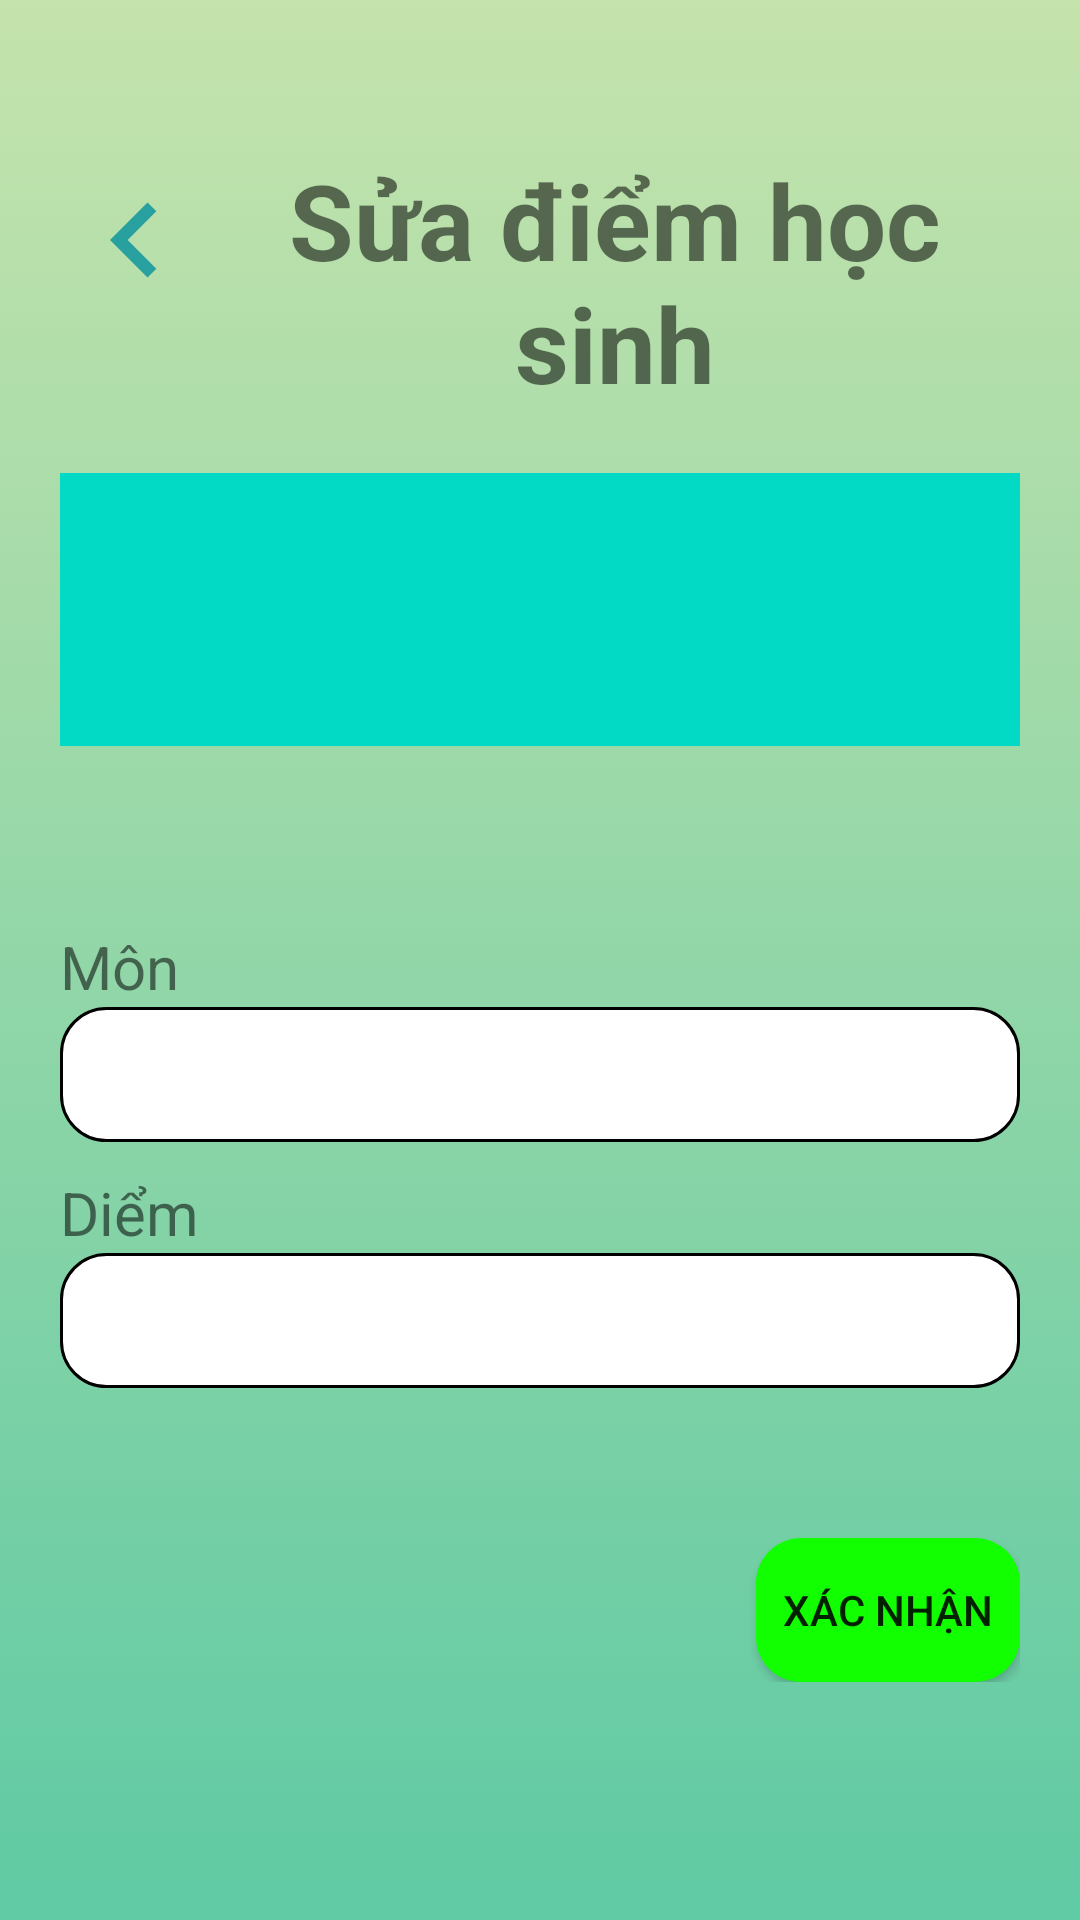

Icon click points for this 1080 × 1920 phone screenshot, format point (x, y):
turnback: point (133, 240)
